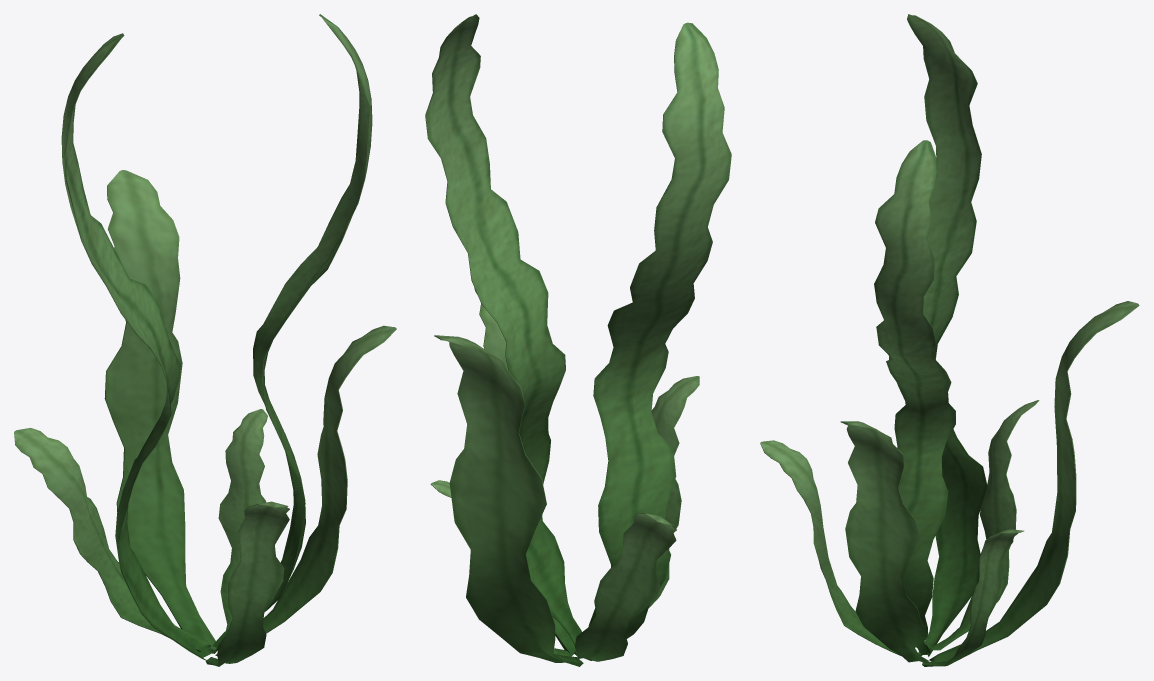
Rendered from Cartoon Seaweed_10_9.FBX.
3 views of the same model, side by side, from view 1: azimuth 30°, elevation 25°; view 2: azimuth 150°, elevation 25°; view 3: azimuth 270°, elevation 25° (orthographic). The views are drawn at different scales.
Parts seen in each view (by area): view 1: Cartoon Seaweed 10.9; view 2: Cartoon Seaweed 10.9; view 3: Cartoon Seaweed 10.9.
Part boxes in pixels (x1,y1,x2,y2): Cartoon Seaweed 10.9: (14,14,396,666); Cartoon Seaweed 10.9: (425,14,731,666); Cartoon Seaweed 10.9: (760,14,1139,666).
Bounding box in the file's own units: 18.86 × 39.1 × 22.36.
